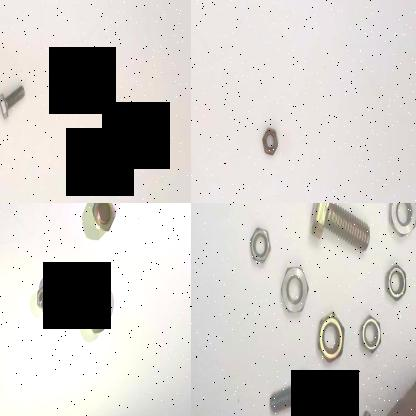Bolts: (304, 203, 374, 253), (260, 370, 318, 416), (0, 74, 24, 126)
NUTS: (315, 304, 347, 364), (276, 260, 308, 320), (244, 222, 275, 272), (352, 312, 384, 359), (383, 203, 416, 241), (380, 259, 404, 305), (84, 292, 108, 336), (87, 203, 118, 234), (260, 125, 278, 158), (34, 282, 50, 315)
